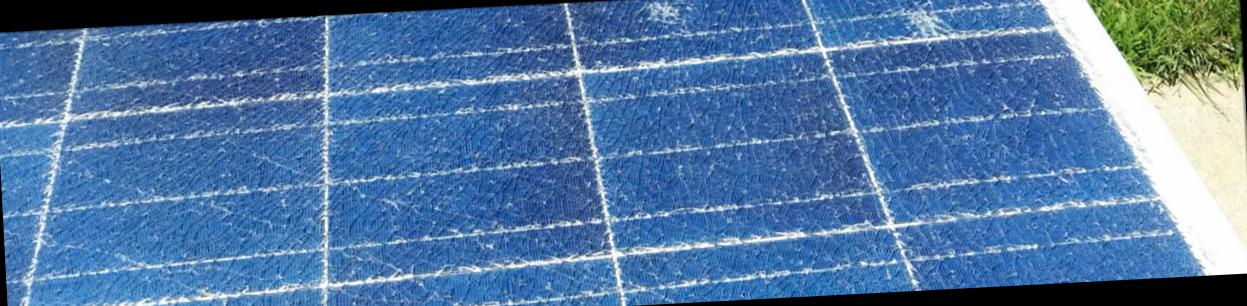Crack: (886, 4, 971, 62), (638, 0, 702, 43)
